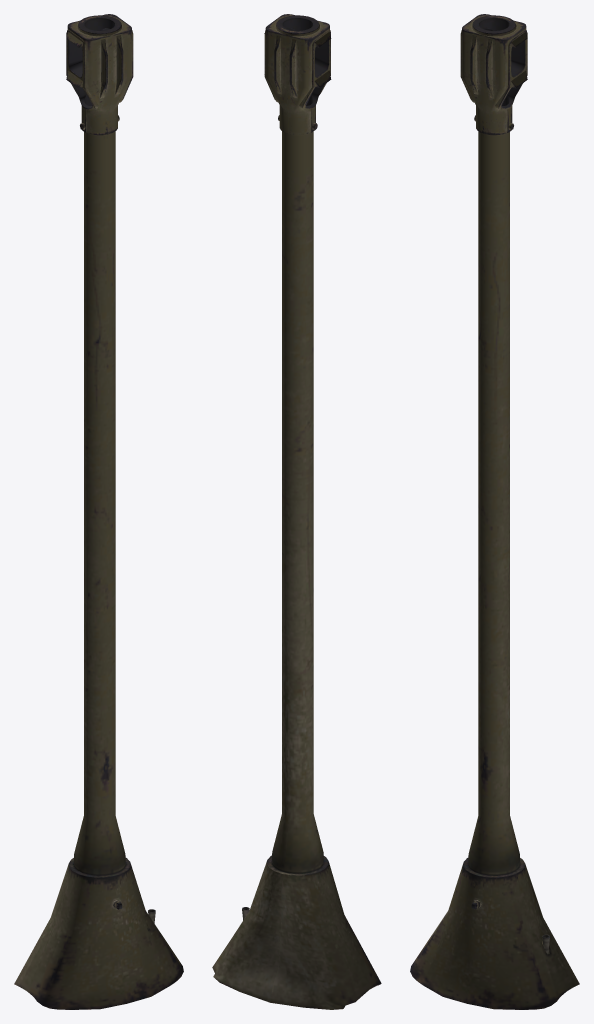
The model's file is Gun_01.glb.
3 views of the same model, side by side, from view 1: azimuth 30°, elevation 25°; view 2: azimuth 150°, elevation 25°; view 3: azimuth 330°, elevation 25° (orthographic).
Parts seen in each view (by area): view 1: set_0_group_0; view 2: set_0_group_0; view 3: set_0_group_0.
Boxes of the visible parts, x1,y1,x2,y2 form: set_0_group_0: (14, 14, 183, 1009); set_0_group_0: (212, 14, 381, 1009); set_0_group_0: (410, 14, 579, 1009).
Bounding box in the file's own units: 0.8437 × 5.3 × 0.5489.
1 material, 1 textured.
